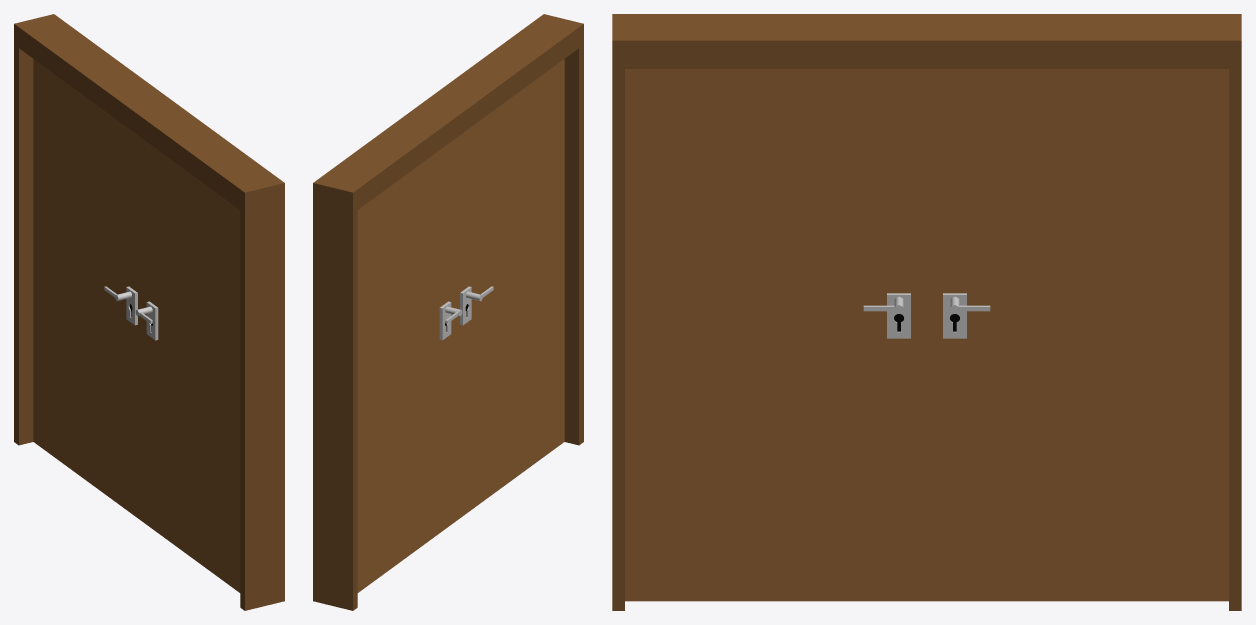
The model's file is porta02.FBX.
The picture shows the model from 3 angles, left to right: view 1: azimuth 30°, elevation 25°; view 2: azimuth 150°, elevation 25°; view 3: azimuth 270°, elevation 25°; orthographic projection. The views are drawn at different scales.
Parts seen in each view (by area): view 1: dor009, Escada 002, dor008, fechadura012, fechadura014; view 2: dor008, Escada 002, dor009, fechadura014, fechadura012; view 3: dor008, dor009, Escada 002, fechadura013, fechadura015.
Part boxes in pixels (bbox=[...]): dor009: bbox=[33, 59, 143, 522]; Escada 002: bbox=[14, 14, 284, 610]; dor008: bbox=[144, 140, 240, 592]; fechadura012: bbox=[146, 301, 158, 340]; fechadura014: bbox=[126, 286, 137, 325]; dor008: bbox=[454, 59, 564, 522]; Escada 002: bbox=[313, 14, 583, 610]; dor009: bbox=[357, 140, 453, 592]; fechadura014: bbox=[439, 301, 451, 340]; fechadura012: bbox=[460, 286, 471, 325]; dor008: bbox=[625, 69, 926, 601]; dor009: bbox=[927, 69, 1228, 601]; Escada 002: bbox=[612, 14, 1241, 610]; fechadura013: bbox=[887, 293, 910, 338]; fechadura015: bbox=[943, 293, 966, 338].
Size of the model in its own units: 8.52 by 78.74 by 78.74.
Materials: 1 (1 with a texture image).
